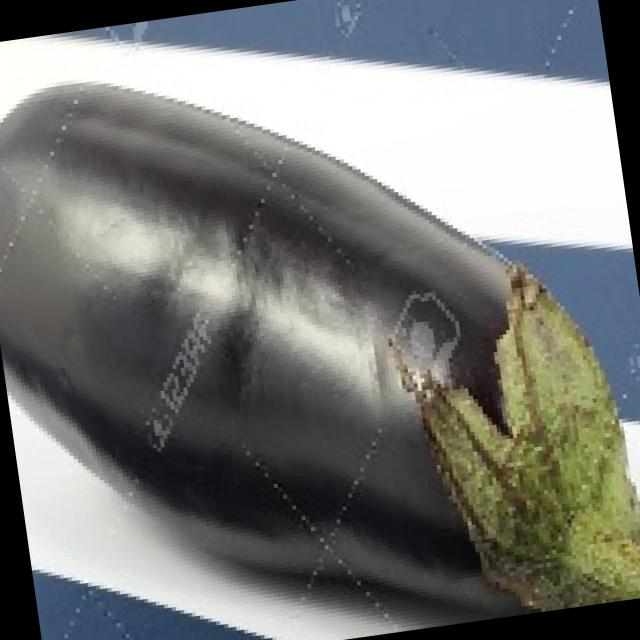eggplant: (0, 7, 617, 640)
